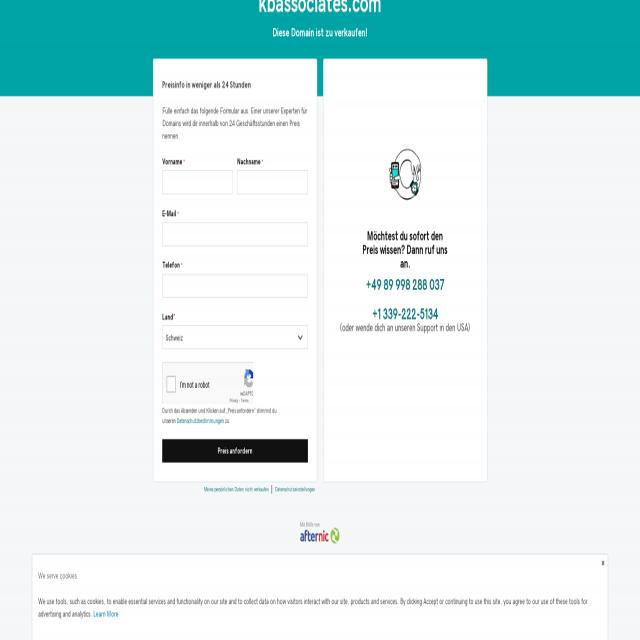button: (382, 136, 428, 214), (162, 439, 308, 463), (300, 522, 340, 544), (201, 485, 271, 494), (176, 416, 224, 426), (272, 485, 318, 494)
field: (161, 326, 308, 350), (162, 222, 308, 246), (162, 274, 308, 298), (237, 171, 308, 194), (162, 171, 232, 194), (167, 376, 176, 394)
